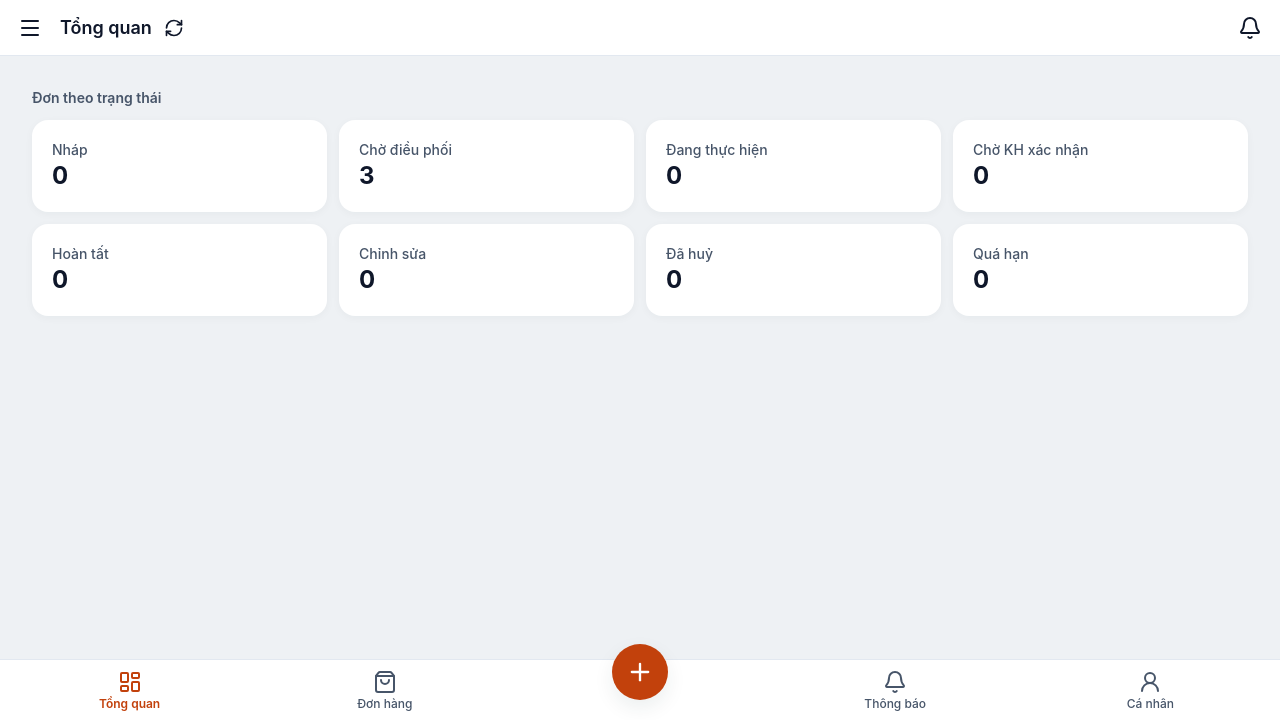
it: Popup chi tiết thẻ Tổng quan (M18-01a) › AC-DASH-078 mobile: sheet từ dưới, danh sách thẻ, không có 'Xuất Excel'
Click the button "Chờ điều phối 3" at (486, 166), box [339, 120, 634, 212]
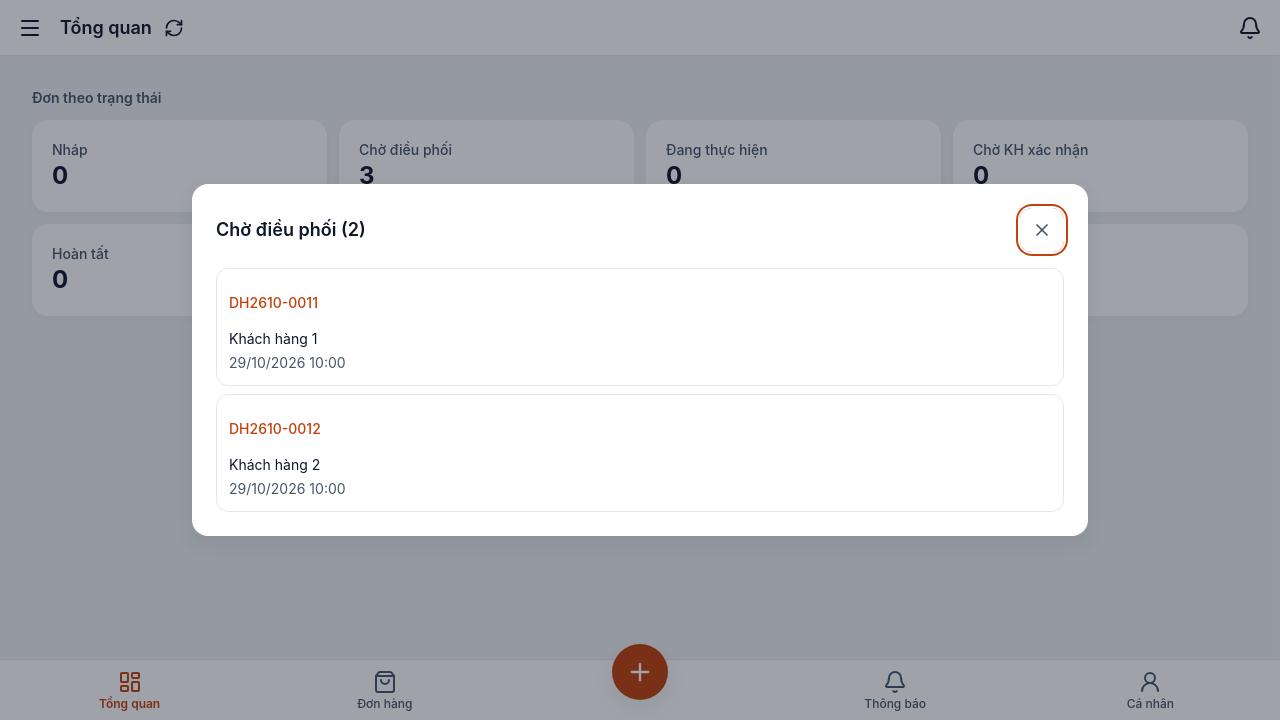
Now the link "DH2610-0011" is shown, box [229, 294, 318, 311]
Now the text "Khách hàng 1" is shown, box [229, 330, 317, 347]
Now the text "29/10/2026 10:00" below "DH2610-0011" is shown, box [229, 354, 346, 371]
